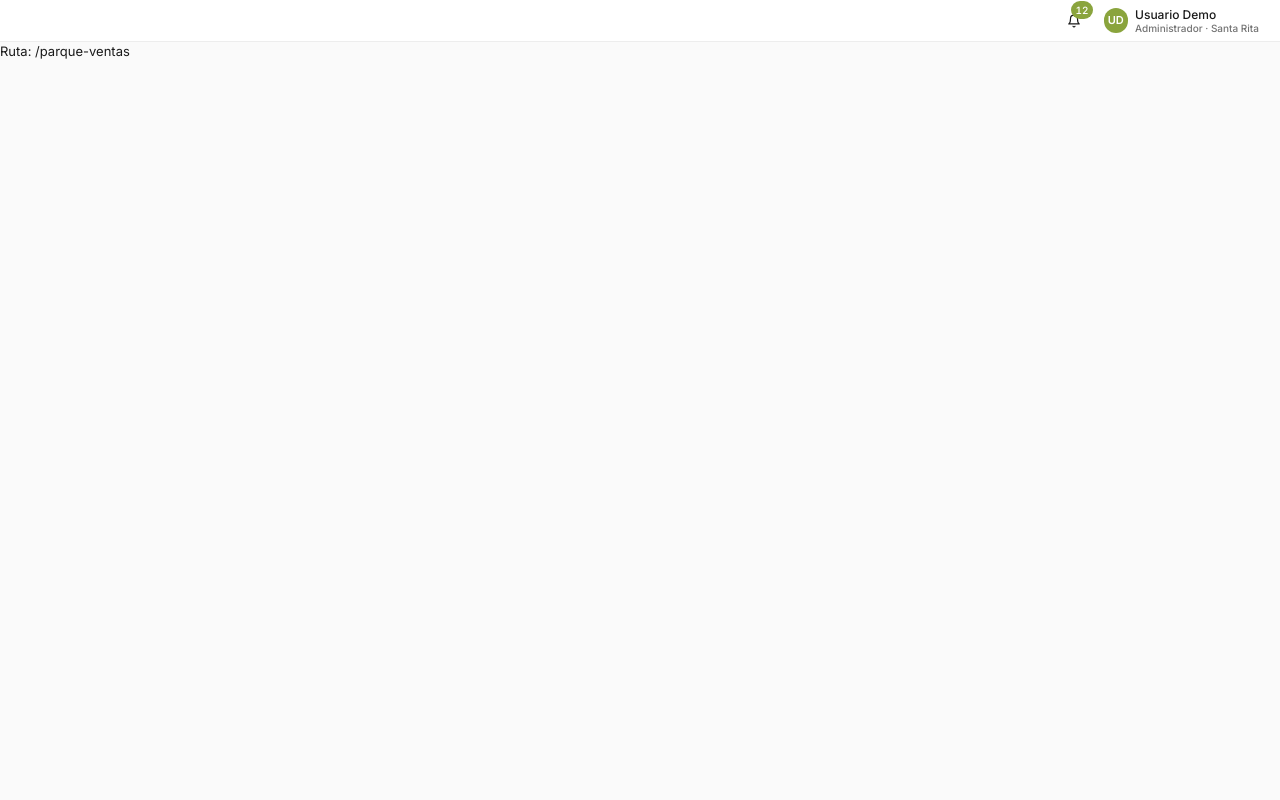
it: shared mobile header › opens the notification panel without changing its contents
Click the button named "Notificaciones" at [1074, 21], box [1058,5,1090,36]
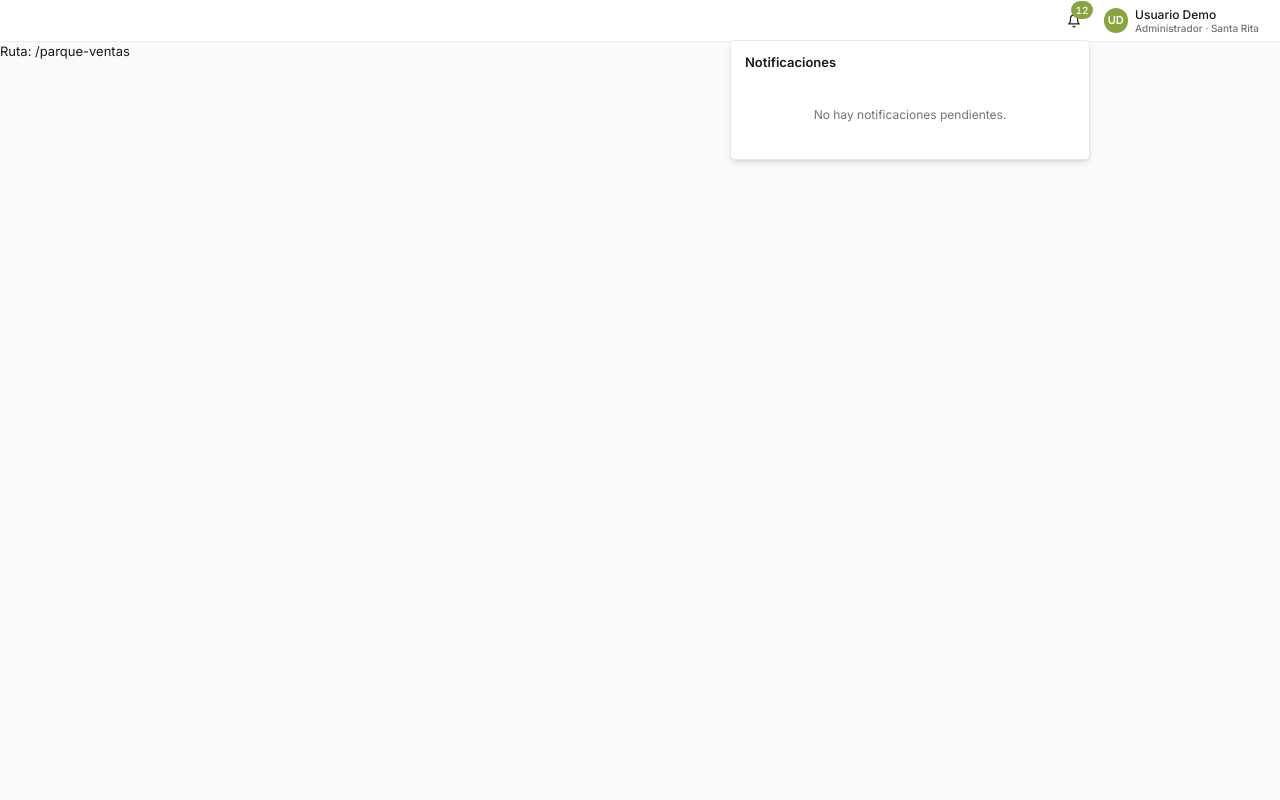
Check: the text "No hay notificaciones pendientes." is shown, box [814,107,1006,122]
